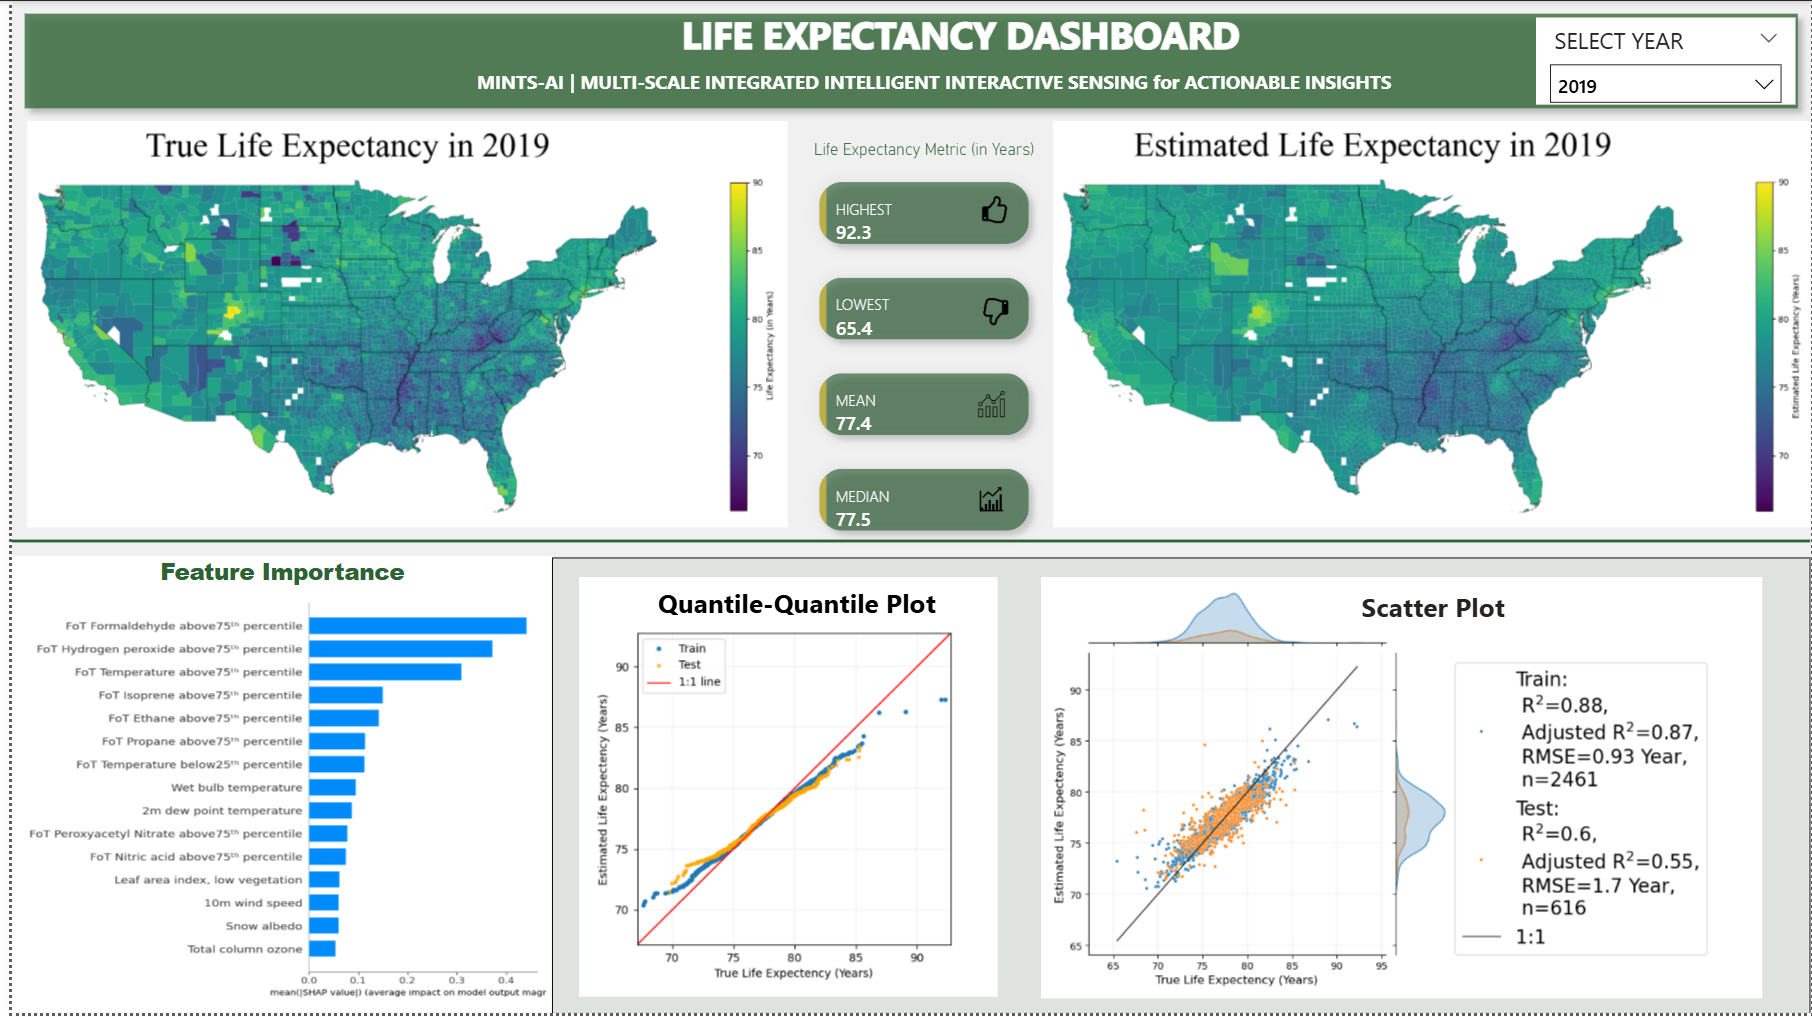

This screenshot's page, from the dashboard's own definition file:
{"tool":"powerbi","page":{"name":"Page 1","canvas":[1280,720],"ordinal":0},"visuals":[{"type":"shape","box":[0,0,1279.6,85.4],"z":0},{"type":"textbox","box":[470.6,295.6,228.4,39.5],"z":1000},{"type":"textbox","box":[481.3,20.3,434.4,53.4],"z":2000},{"type":"cardVisual","title":"Life Expectancy Metric (in Years)","fields":{"Data":["all_years.Highest","all_years.Lowest","all_years.Mean","all_years.Median"]},"box":[557.1,92.8,183.6,303.1],"z":3000},{"type":"slicer","fields":{"Values":["all_years.year"]},"box":[1084.3,11.7,184.6,61.9],"z":4000},{"type":"simpleImageEBC4593F96F1425FB3D84C5BF02B5075","fields":{"imageURL":["pictures.true"]},"box":[10.7,85.4,541.1,289.2],"z":5000},{"type":"simpleImageEBC4593F96F1425FB3D84C5BF02B5075","fields":{"imageURL":["pictures.Estimated"]},"box":[740.6,85.4,540,289.2],"z":6000},{"type":"shape","box":[0,372.5,1279.6,23.5],"z":7000},{"type":"simpleImageEBC4593F96F1425FB3D84C5BF02B5075","title":"Feature Importance","fields":{"imageURL":["pictures.Features"]},"box":[0,395.9,336.2,324.4],"z":8000},{"type":"shape","box":[357.5,395.9,922.1,324.4],"z":9000},{"type":"simpleImageEBC4593F96F1425FB3D84C5BF02B5075","fields":{"imageURL":["pictures.qq"]},"box":[403.4,409.8,297.8,298.8],"z":10000},{"type":"simpleImageEBC4593F96F1425FB3D84C5BF02B5075","fields":{"imageURL":["pictures.scatter"]},"box":[757.7,409.8,299.9,299.9],"z":11000}]}

Visuals, with their boxes in screenshot pixels (x1, y1, x2, y2), scaled from the page's 1280x720 canvas onto the 1812x1017 screenshot:
shape: <region>0, 0, 1811, 121</region>
textbox: <region>666, 418, 990, 473</region>
textbox: <region>681, 29, 1296, 104</region>
"Life Expectancy Metric (in Years)" cardVisual: <region>789, 131, 1049, 559</region>
slicer - all_years.year: <region>1535, 17, 1796, 104</region>
simpleImageEBC4593F96F1425FB3D84C5BF02B5075 - pictures.true: <region>15, 121, 781, 529</region>
simpleImageEBC4593F96F1425FB3D84C5BF02B5075 - pictures.Estimated: <region>1048, 121, 1811, 529</region>
shape: <region>0, 526, 1811, 559</region>
"Feature Importance" simpleImageEBC4593F96F1425FB3D84C5BF02B5075: <region>0, 559, 476, 1016</region>
shape: <region>506, 559, 1811, 1016</region>
simpleImageEBC4593F96F1425FB3D84C5BF02B5075 - pictures.qq: <region>571, 579, 993, 1001</region>
simpleImageEBC4593F96F1425FB3D84C5BF02B5075 - pictures.scatter: <region>1073, 579, 1497, 1002</region>
